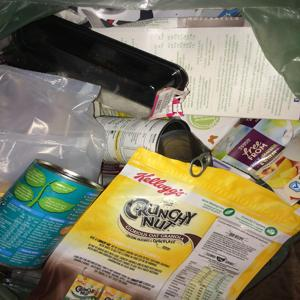cardboard: (93, 23, 299, 120), (181, 105, 299, 211)
metal: (3, 161, 95, 266), (92, 113, 195, 160), (185, 150, 213, 175)
plastic: (50, 151, 297, 297), (5, 16, 197, 107), (1, 67, 112, 179)
